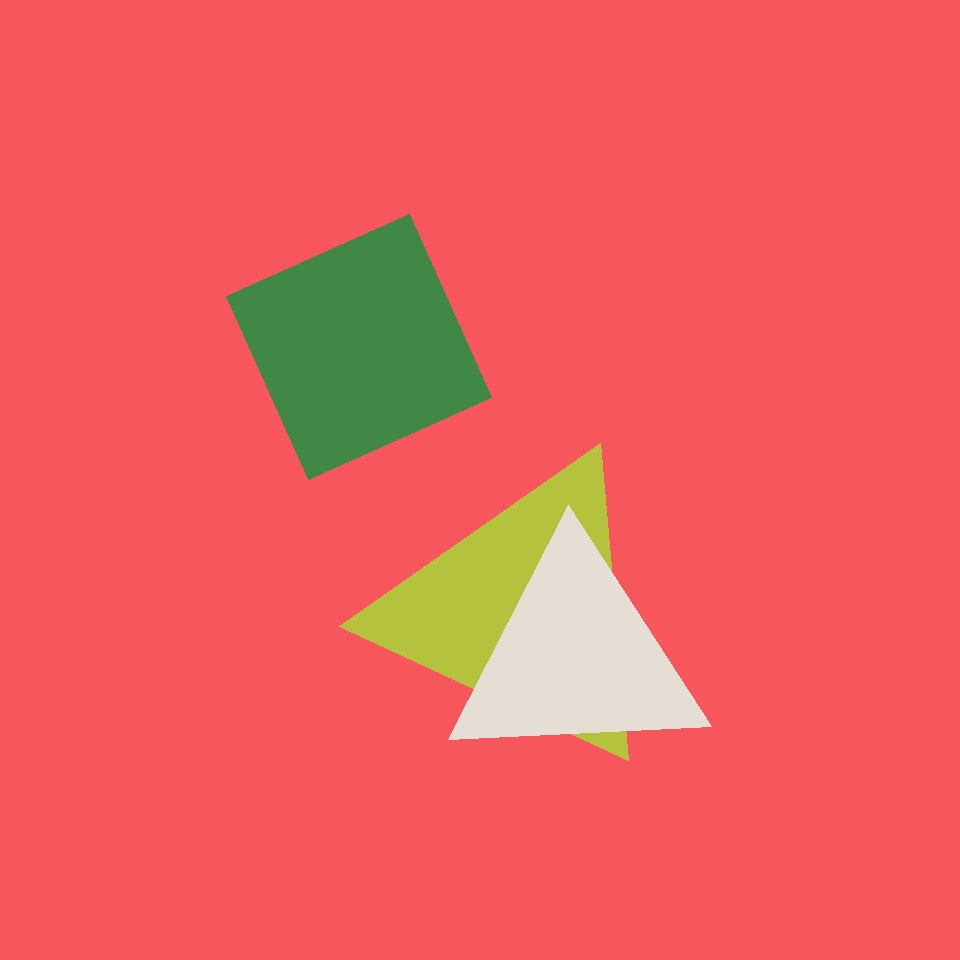circle: (378, 451, 668, 768), (236, 602, 505, 865), (444, 540, 708, 774), (717, 694, 938, 903)
square: (226, 214, 492, 480), (283, 243, 408, 368), (542, 535, 652, 644)
triangle: (387, 324, 723, 660), (316, 531, 560, 775)
